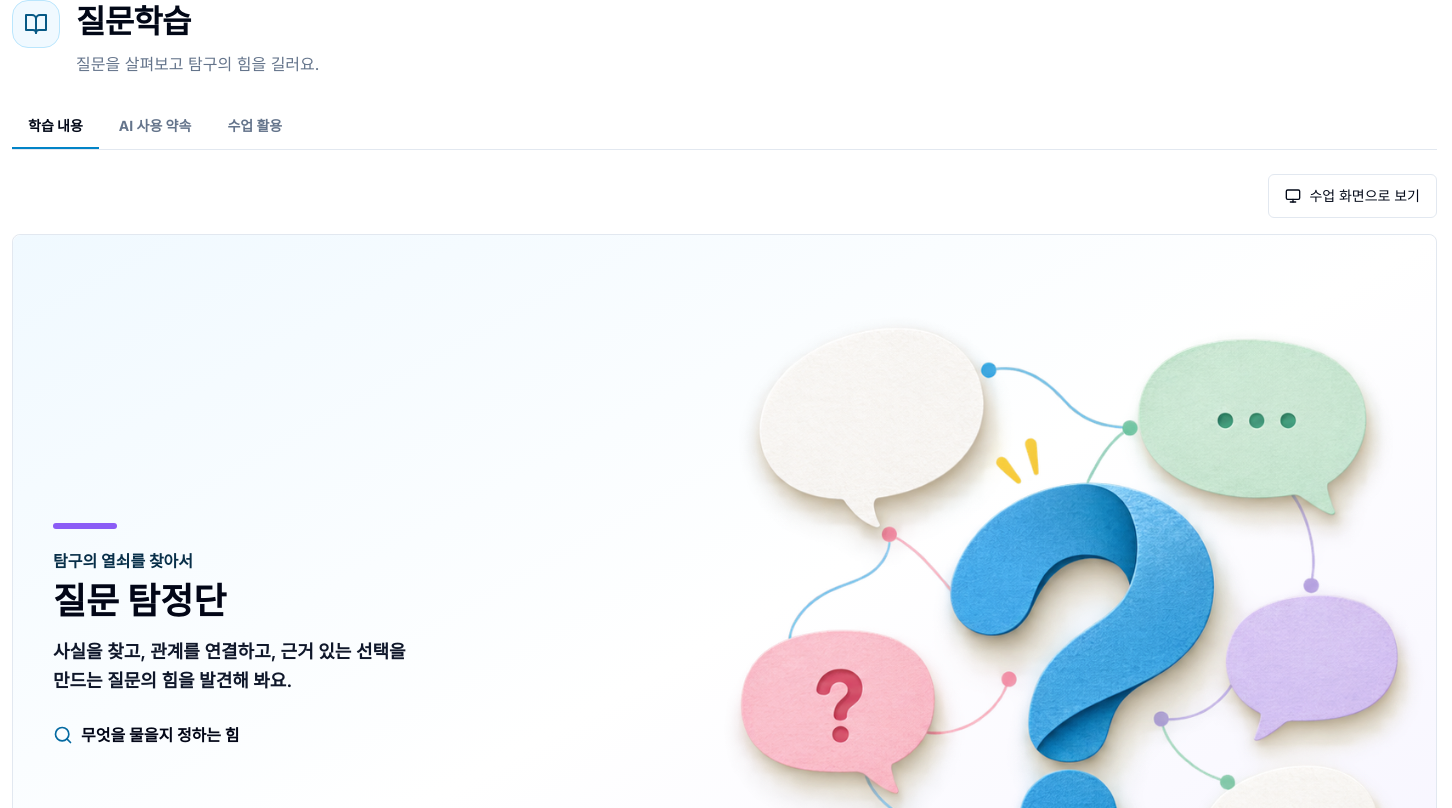
Test: 질문학습 슬라이드 › 담당 학년 조회 실패에도 기존 여섯 안내와 재시도를 제공한다
Click the tab "수업 활용" at (255, 127), box [211,105,298,149]
(page scrolled)
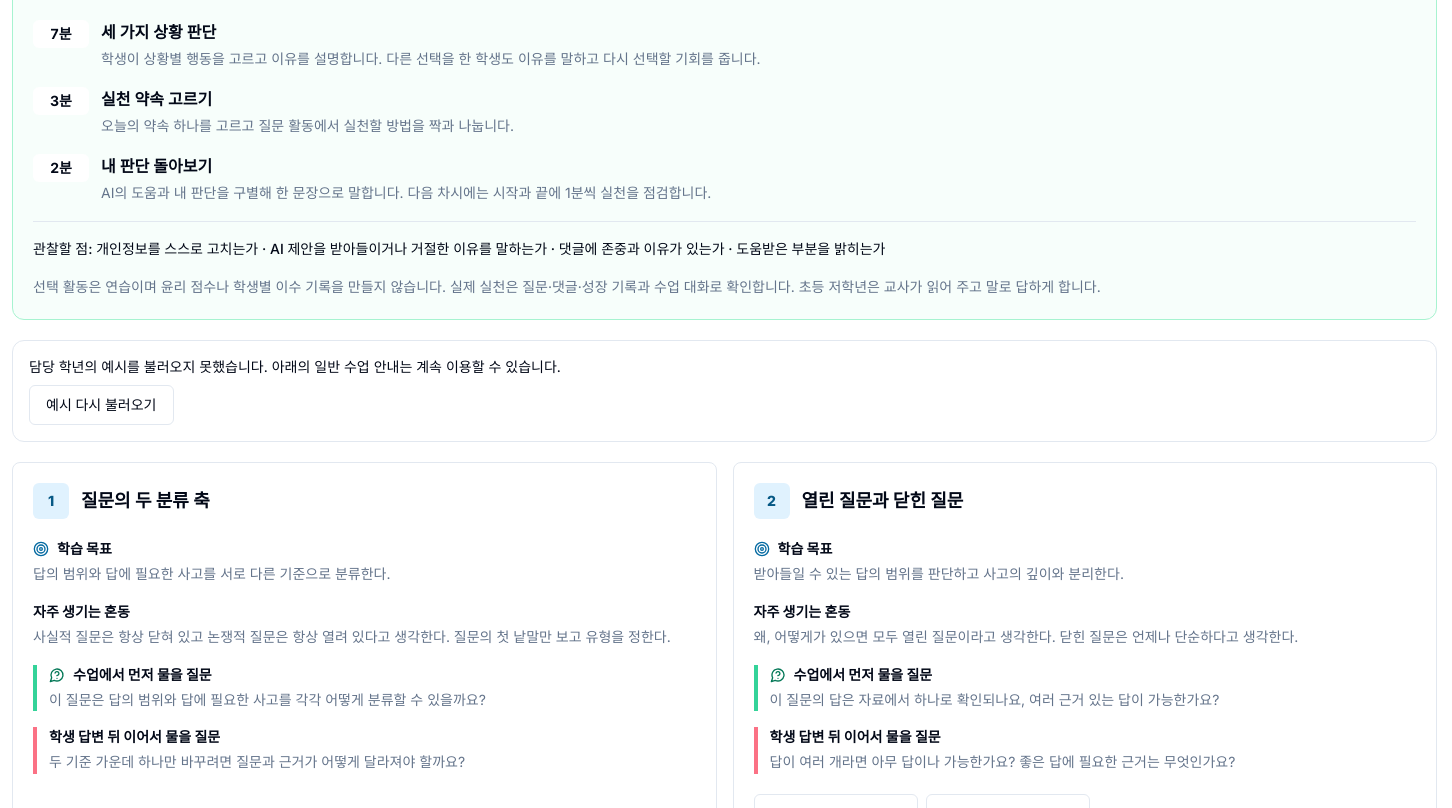
Expected: the message shows "담당 학년의 예시를 불러오지 못했습니다.", [29,358,561,375]
Expected: the button "예시 다시 불러오기" is shown, [29,385,174,425]
Expected: the text "자주 생기는 혼동" is shown 6 times
